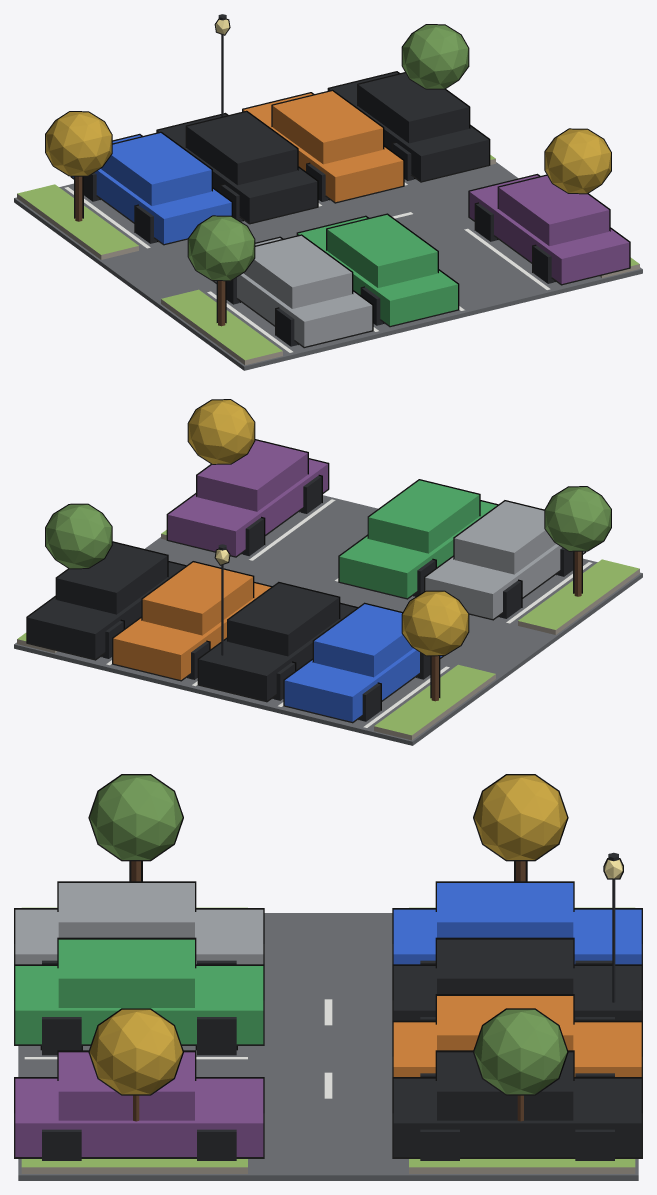
The model's file is Avlu_otopark_agacli.fbx.
3 renders of one model, top to bottom at view 1: azimuth 30°, elevation 25°; view 2: azimuth 150°, elevation 25°; view 3: azimuth 270°, elevation 25°, orthographic. The views are drawn at different scales.
Visible parts, largest first — view 1: Avlu_otopark_agacli; view 2: Avlu_otopark_agacli; view 3: Avlu_otopark_agacli.
Part boxes in pixels (x1,y1,x2,y2): Avlu_otopark_agacli: (14,14,642,370); Avlu_otopark_agacli: (14,399,642,745); Avlu_otopark_agacli: (14,774,642,1180).
Size of the model in its own units: 10.48 by 3.46 by 10.14.
